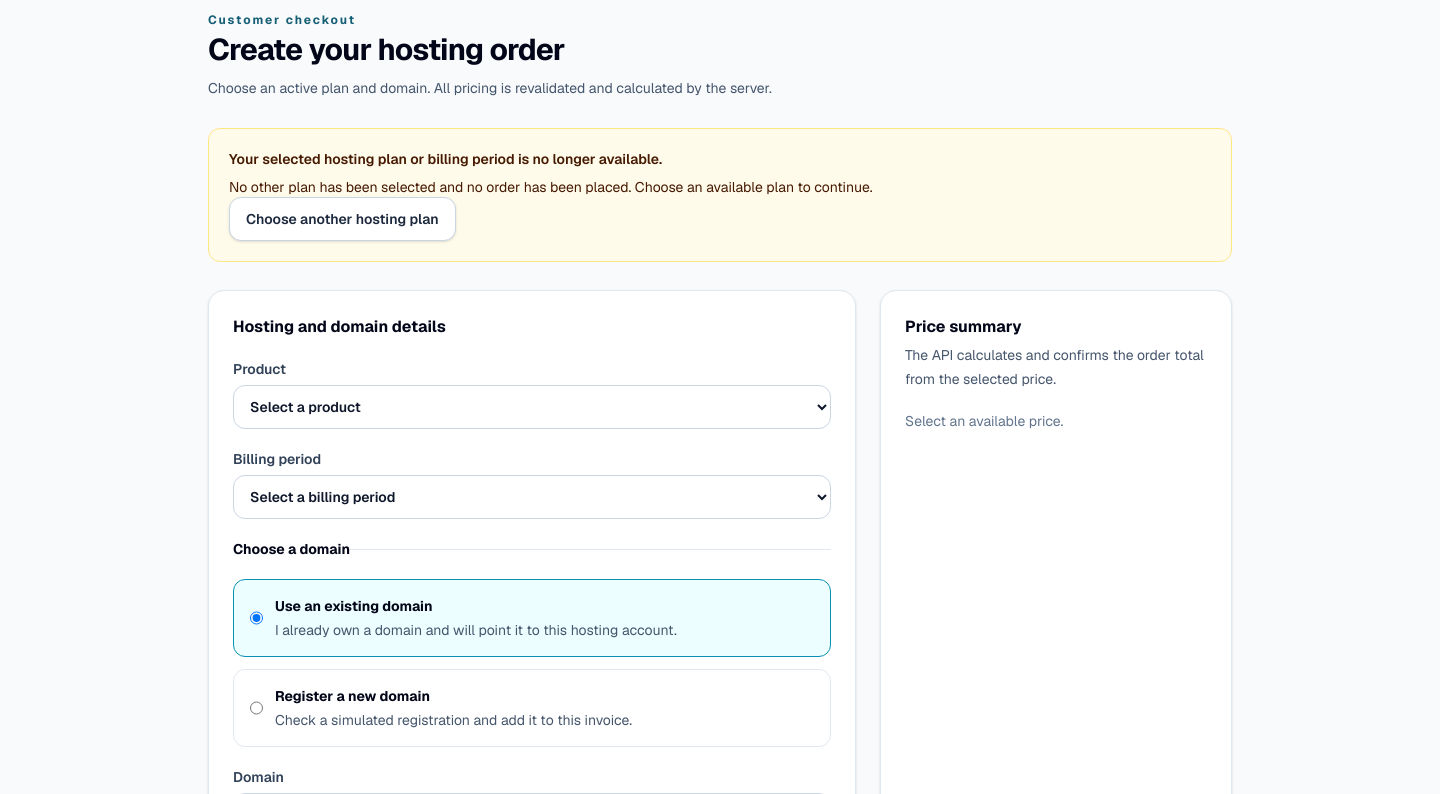
it: order interfaces › never substitutes a plan for a carried retired product and requires deliberate replacement
Expected: the text "Your selected hosting plan or billing period is no longer available." is shown, [229,150,662,168]
Expected: the dropdown labelled "Billing period" shows "Select a billing period", [233,475,831,519]
Select "Starter Hosting" in the dropdown labelled "Product" at (532, 407), box [233,385,831,429]
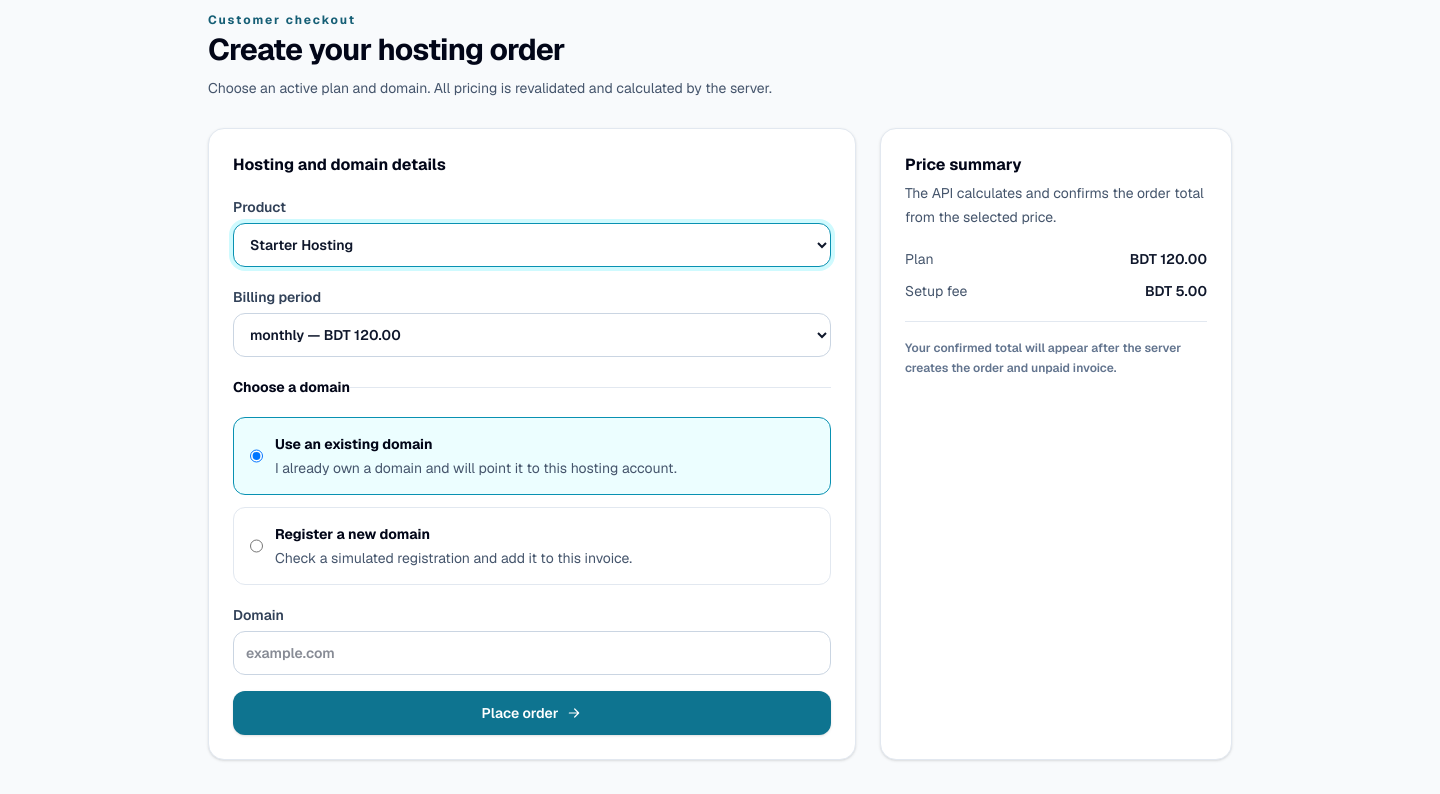
Now the text "Your selected hosting plan or billing period is no longer available." is gone
Now the dropdown labelled "Billing period" shows "monthly — BDT 120.00", box [233,313,831,357]
